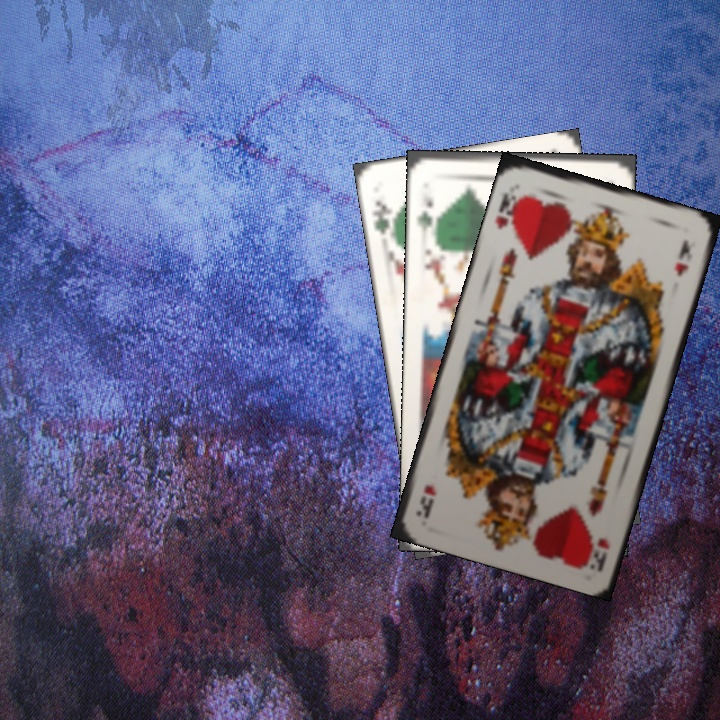GK: (413, 190, 440, 235), (368, 197, 395, 238)
HK: (491, 188, 526, 234), (583, 533, 613, 571)
